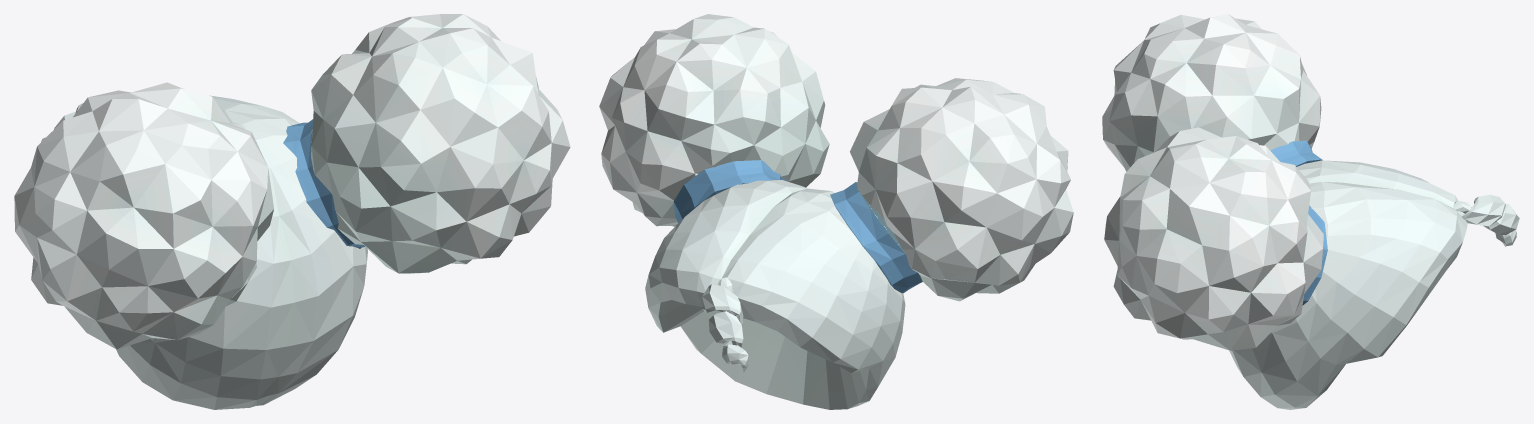
File: CharSkyKid_Hair_TwoBallsCurly.glb
The picture shows the model from 3 angles, left to right: view 1: azimuth 30°, elevation 25°; view 2: azimuth 150°, elevation 25°; view 3: azimuth 270°, elevation 25°; orthographic projection. The views are drawn at different scales.
Parts seen in each view (by area): view 1: CharSkyKid_Hair_TwoBallsCurly; view 2: CharSkyKid_Hair_TwoBallsCurly; view 3: CharSkyKid_Hair_TwoBallsCurly.
Part boxes in pixels (x1,y1,x2,y2): CharSkyKid_Hair_TwoBallsCurly: (14, 14, 570, 409); CharSkyKid_Hair_TwoBallsCurly: (599, 14, 1073, 409); CharSkyKid_Hair_TwoBallsCurly: (1102, 14, 1519, 409).
Bounding box in the file's own units: 4.85 × 3.37 × 4.01.
Materials: 1 (1 with a texture image).
